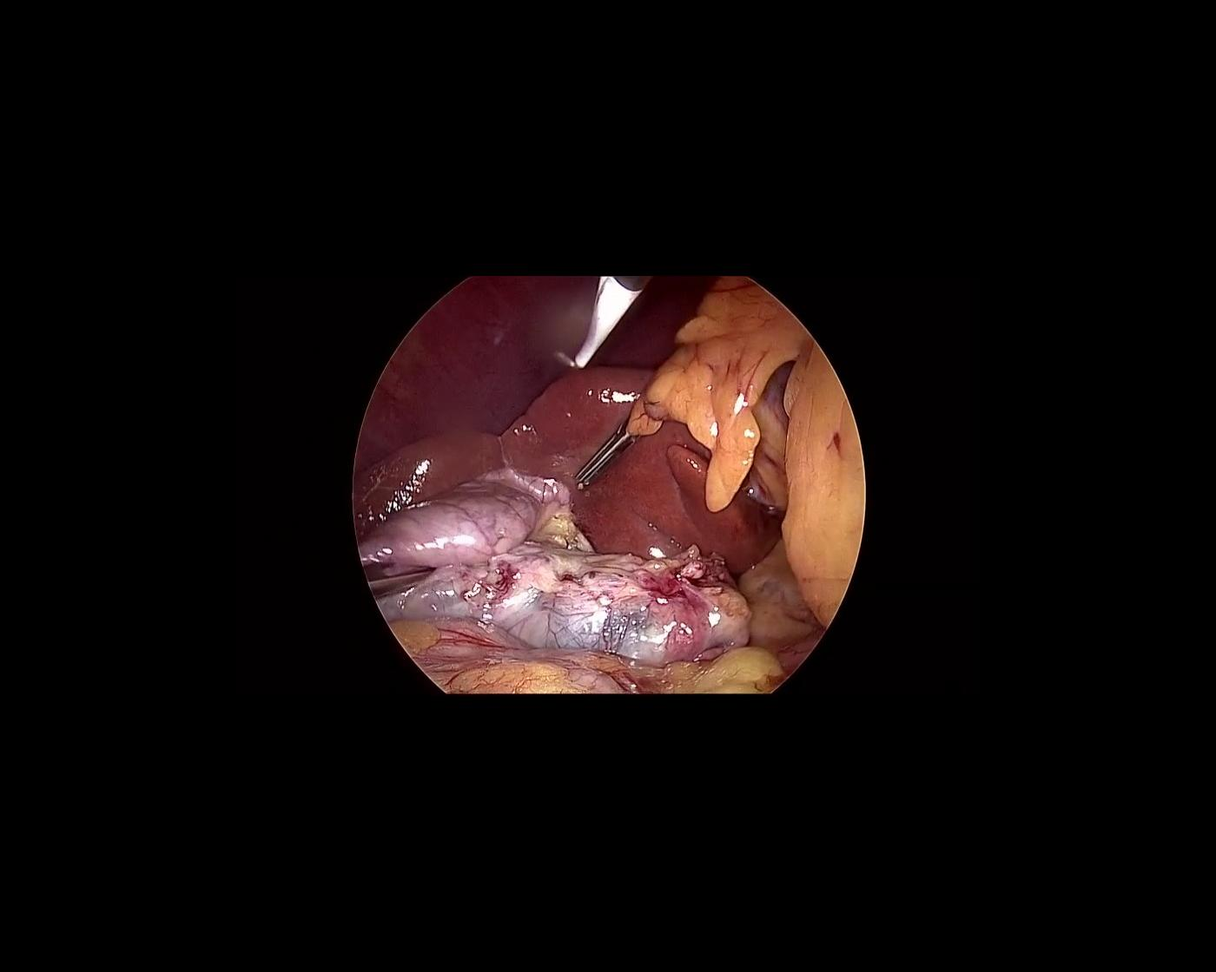Cautery: (545, 254, 651, 377)
Forceps: (570, 419, 644, 494)
Gallbladder: (346, 437, 771, 717)
Liver: (353, 366, 778, 574)
